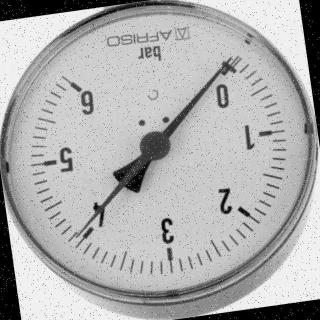gauge: (0, 0, 320, 309), (137, 128, 173, 164), (62, 73, 96, 103), (211, 59, 237, 85), (218, 51, 238, 71), (71, 228, 87, 242)
